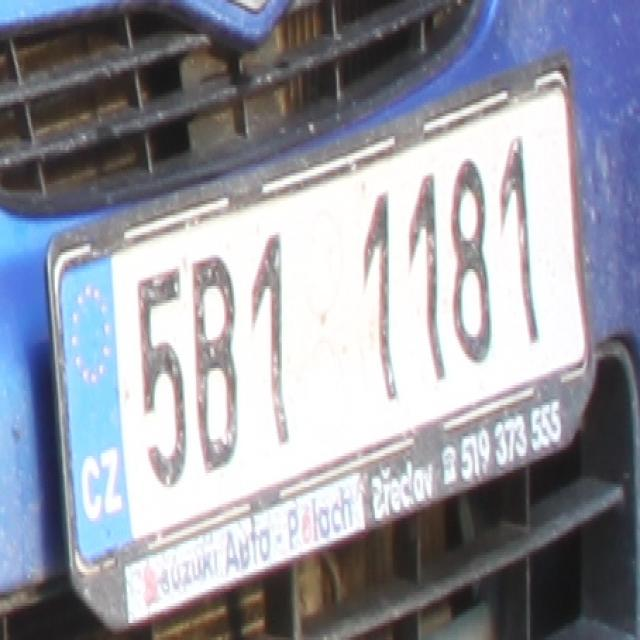1: (245, 227, 296, 448), (496, 133, 542, 351), (403, 164, 447, 385), (358, 181, 398, 405)
5: (132, 263, 190, 490)
8: (448, 150, 492, 377)
B: (193, 255, 240, 470)
C: (76, 456, 103, 515)
